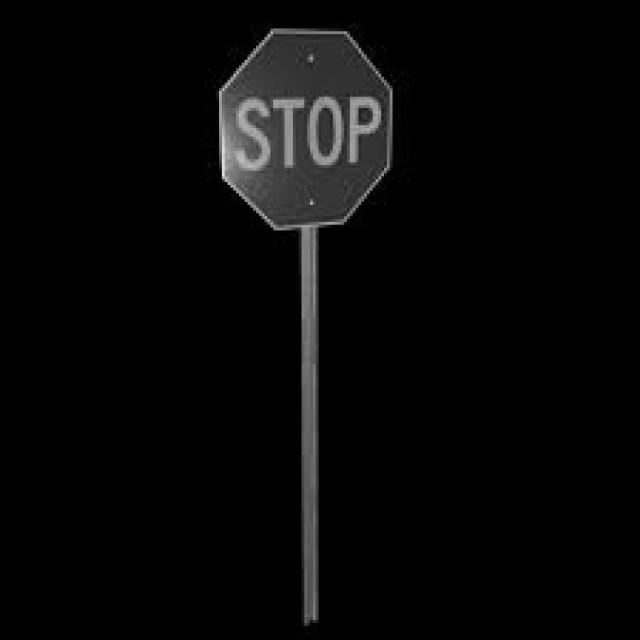stop sign: (220, 24, 395, 226)
